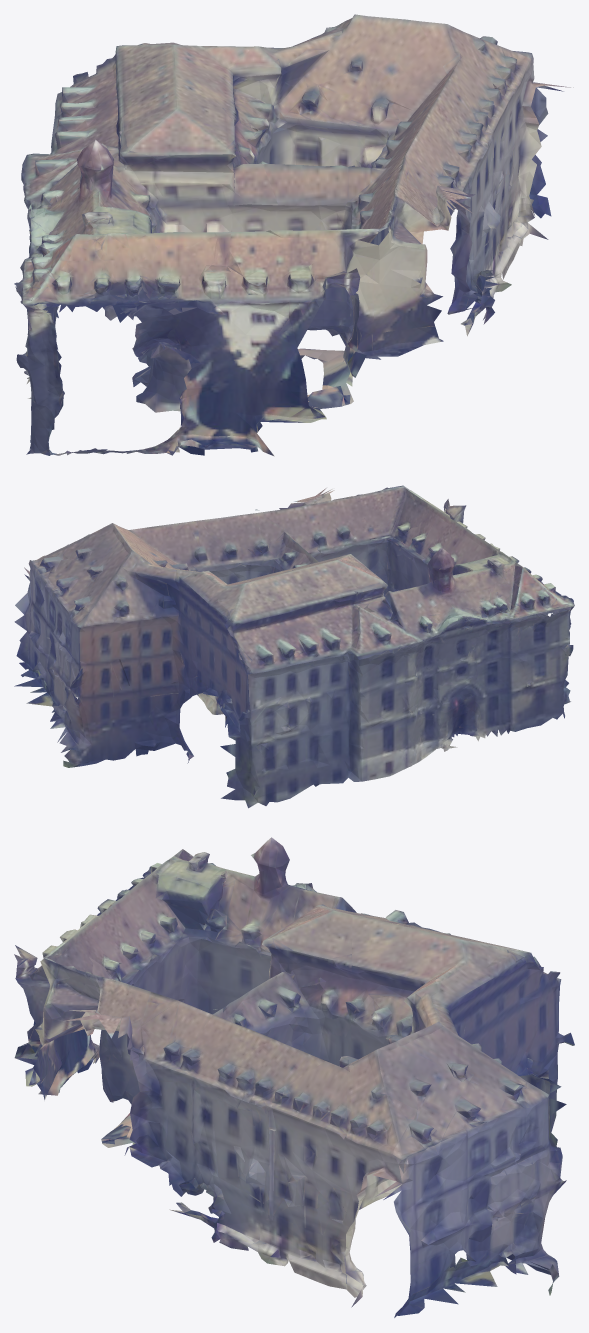
The model's file is palais-de-justice.glb.
3 views of the same model, one above another, from view 1: azimuth 30°, elevation 25°; view 2: azimuth 150°, elevation 25°; view 3: azimuth 270°, elevation 25° (orthographic). The views are drawn at different scales.
Bounding box in the file's own units: 75.57 × 31.89 × 57.94.
4 materials, 4 textured.
